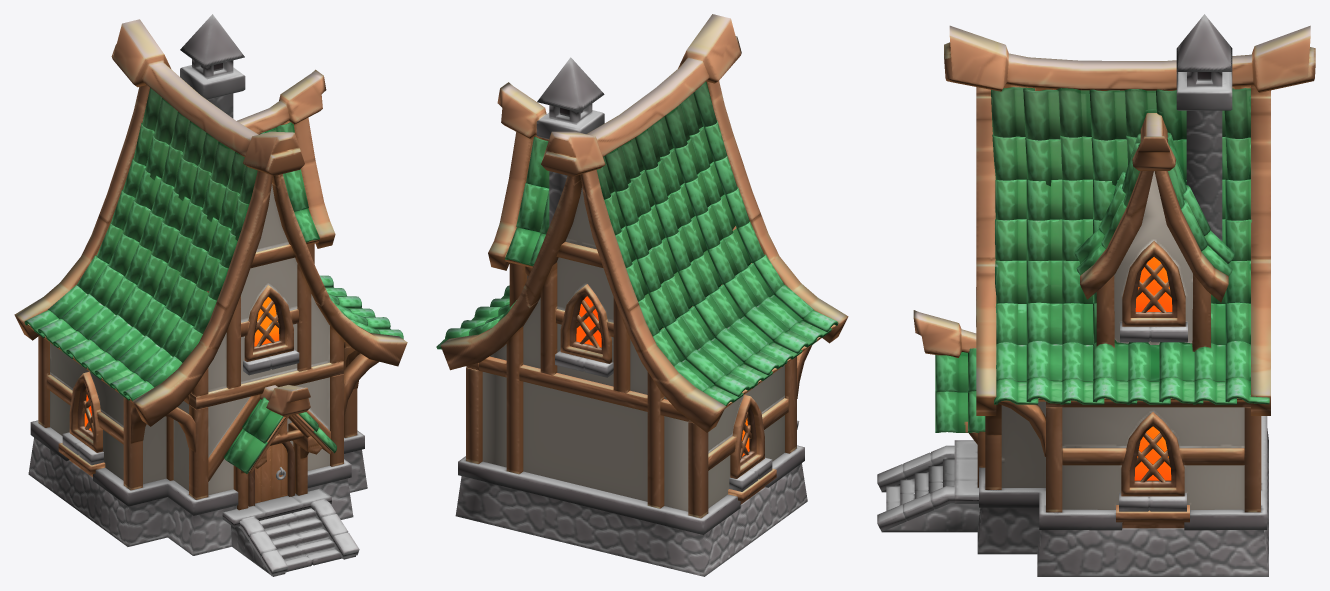
The picture shows the model from 3 angles, left to right: view 1: azimuth 30°, elevation 25°; view 2: azimuth 150°, elevation 25°; view 3: azimuth 270°, elevation 25°; orthographic projection. The views are drawn at different scales.
Visible parts, largest first — view 1: House, Roof, Windows; view 2: House, Roof, Windows.001; view 3: House, Roof, Windows.004, Windows.002.
Boxes of the visible parts, x1=… form: House: x1=14, y1=14, x2=407, y2=576; Roof: x1=24, y1=87, x2=403, y2=506; Windows: x1=254, y1=297, x2=279, y2=346; House: x1=440, y1=14, x2=848, y2=576; Roof: x1=436, y1=81, x2=838, y2=405; Windows.001: x1=576, y1=296, x2=601, y2=347; House: x1=877, y1=14, x2=1315, y2=576; Roof: x1=935, y1=87, x2=1269, y2=432; Windows.004: x1=1135, y1=257, x2=1172, y2=311; Windows.002: x1=1134, y1=426, x2=1171, y2=480.
Size of the model in its own units: 0.1104 by 0.1708 by 0.1315.
Materials: 3 (2 with a texture image).
